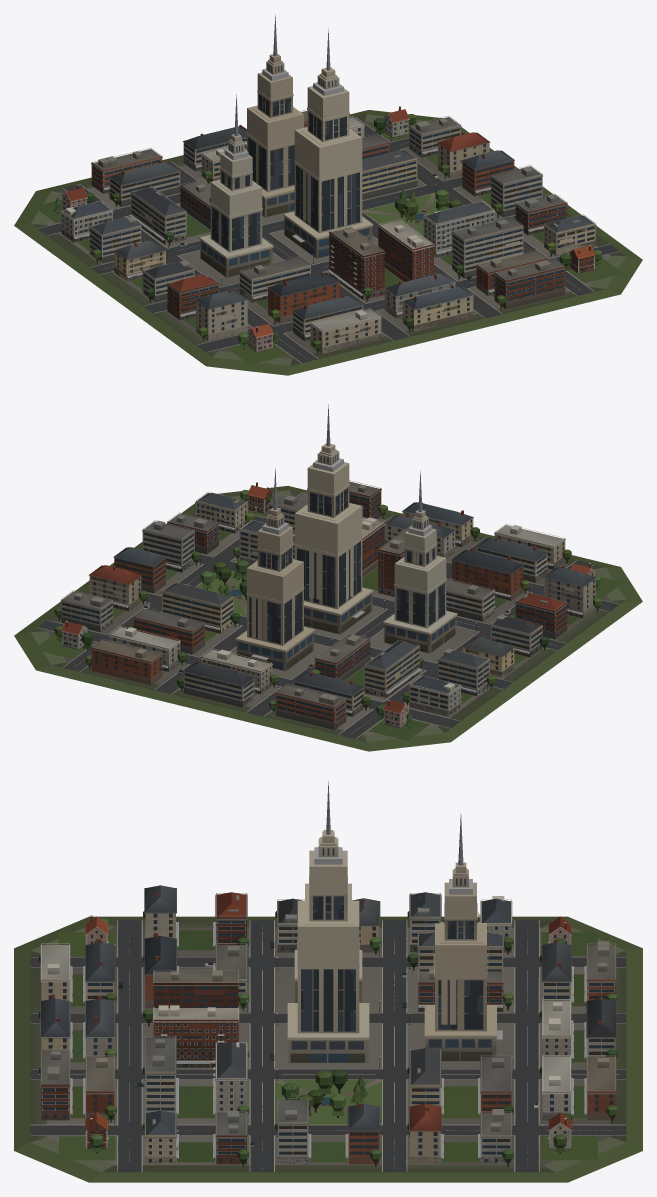
Rendered from city_ww2_city.glb.
3 views of the same model, one above another, from view 1: azimuth 30°, elevation 25°; view 2: azimuth 150°, elevation 25°; view 3: azimuth 270°, elevation 25° (orthographic). The views are drawn at different scales.
Parts seen in each view (by area): view 1: city_ww2_city_LOD0_mesh, city_ww2_city_LOD2_mesh, city_ww2_city_LOD1_mesh; view 2: city_ww2_city_LOD0_mesh, city_ww2_city_LOD2_mesh, city_ww2_city_LOD1_mesh; view 3: city_ww2_city_LOD0_mesh, city_ww2_city_LOD2_mesh, city_ww2_city_LOD1_mesh.
Boxes of the visible parts, x1,y1,x2,y2 form: city_ww2_city_LOD0_mesh: (14,15,642,375); city_ww2_city_LOD2_mesh: (20,59,636,371); city_ww2_city_LOD1_mesh: (56,21,602,352); city_ww2_city_LOD0_mesh: (14,404,642,751); city_ww2_city_LOD2_mesh: (20,449,636,747); city_ww2_city_LOD1_mesh: (54,409,600,729); city_ww2_city_LOD0_mesh: (14,781,642,1182); city_ww2_city_LOD2_mesh: (20,837,636,1178); city_ww2_city_LOD1_mesh: (40,787,616,1164).
Bounding box in the file's own units: 266 × 125 × 266.
